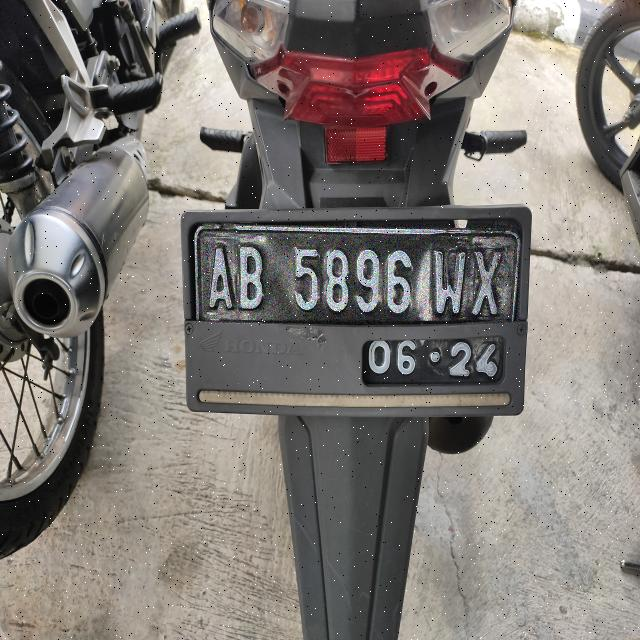plate: (196, 225, 519, 323)
